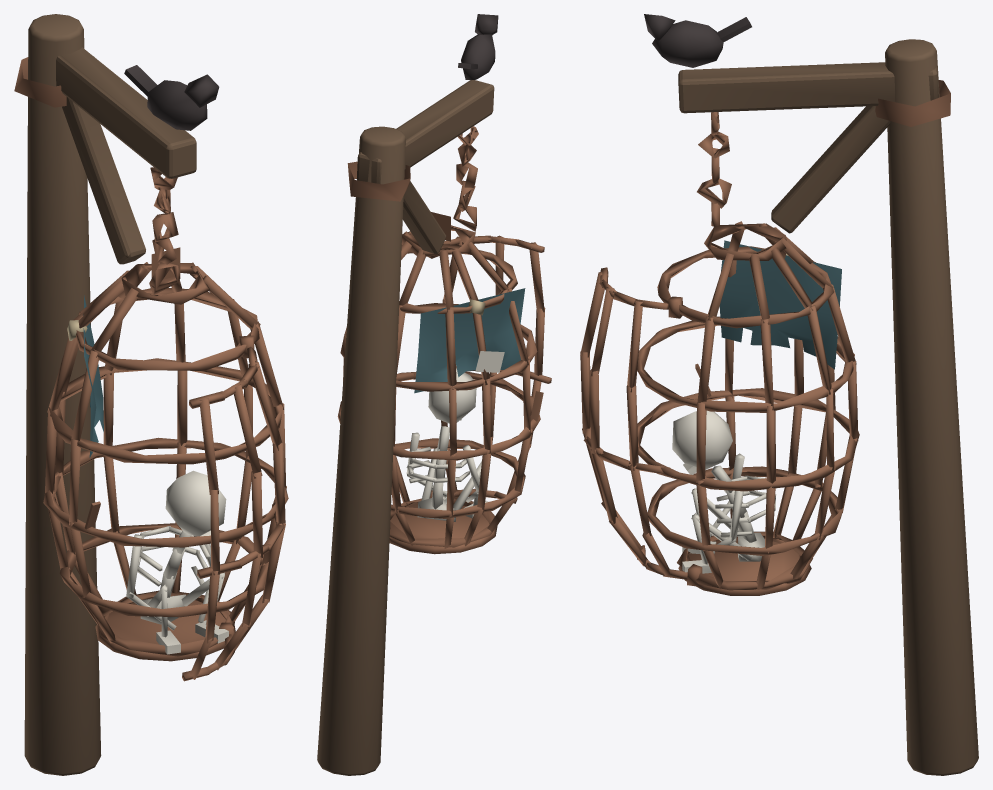
Rendered from gibbet_cage_far.glb.
The picture shows the model from 3 angles, left to right: view 1: azimuth 30°, elevation 25°; view 2: azimuth 150°, elevation 25°; view 3: azimuth 270°, elevation 25°; orthographic projection. The views are drawn at different scales.
Visible parts, largest first — view 1: gibbet_cage; view 2: gibbet_cage; view 3: gibbet_cage.
Part boxes in pixels (bbox=[...]): gibbet_cage: bbox=[14, 14, 288, 775]; gibbet_cage: bbox=[317, 14, 551, 775]; gibbet_cage: bbox=[580, 14, 978, 775].
Size of the model in its own units: 0.9199 by 3.33 by 1.61.
